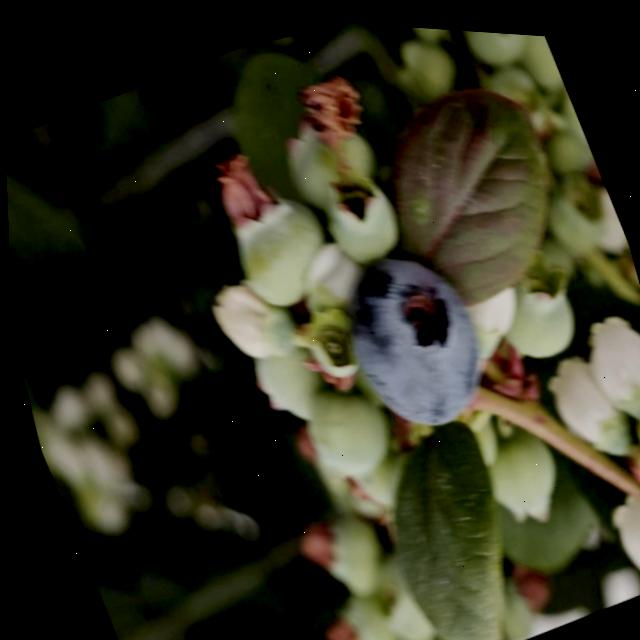RipeBlueBerry: (314, 217, 507, 449)
